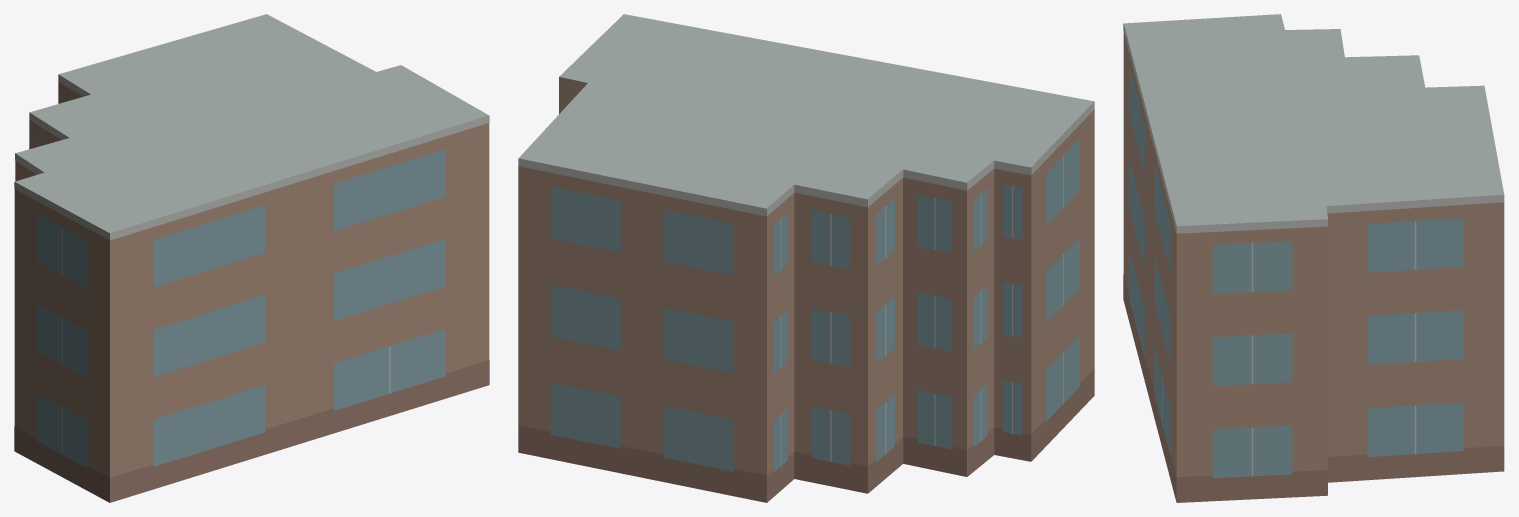
The model's file is survey-upis-32617257.glb.
3 views of the same model, side by side, from view 1: azimuth 30°, elevation 25°; view 2: azimuth 150°, elevation 25°; view 3: azimuth 270°, elevation 25° (orthographic). The views are drawn at different scales.
Visible parts, largest first — view 1: survey-upis-32617257.tmp; view 2: survey-upis-32617257.tmp; view 3: survey-upis-32617257.tmp.
Part boxes in pixels (bbox=[...]): survey-upis-32617257.tmp: bbox=[14, 14, 489, 502]; survey-upis-32617257.tmp: bbox=[518, 14, 1094, 502]; survey-upis-32617257.tmp: bbox=[1123, 14, 1504, 502].
Size of the model in its own units: 14.99 by 9.1 by 11.36.
